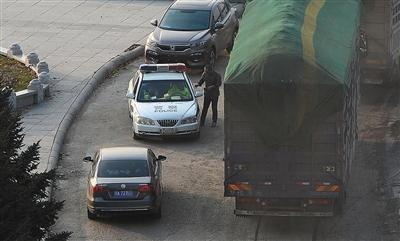chaozhai: (223, 4, 352, 225)
